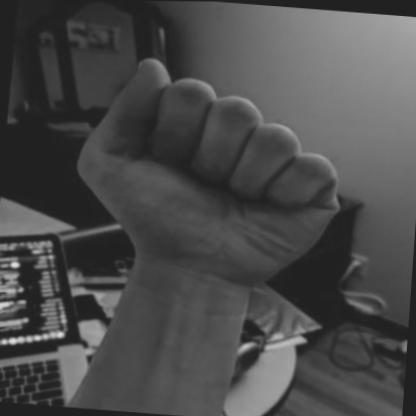A: (47, 40, 368, 311)
